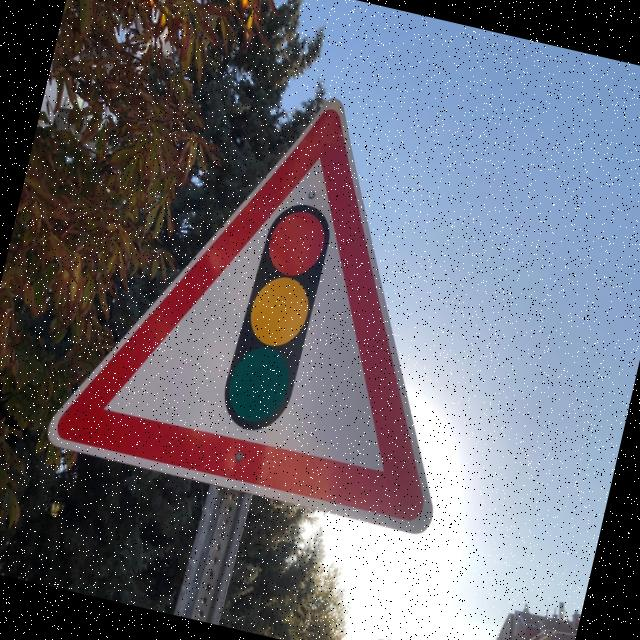light_traffic: (38, 44, 520, 550)
